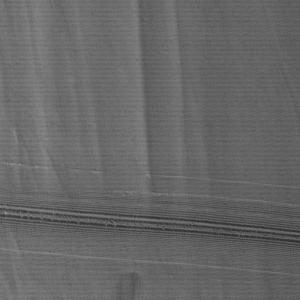Stain: (113, 268, 144, 300)
Wrinkle: (127, 1, 209, 229)
